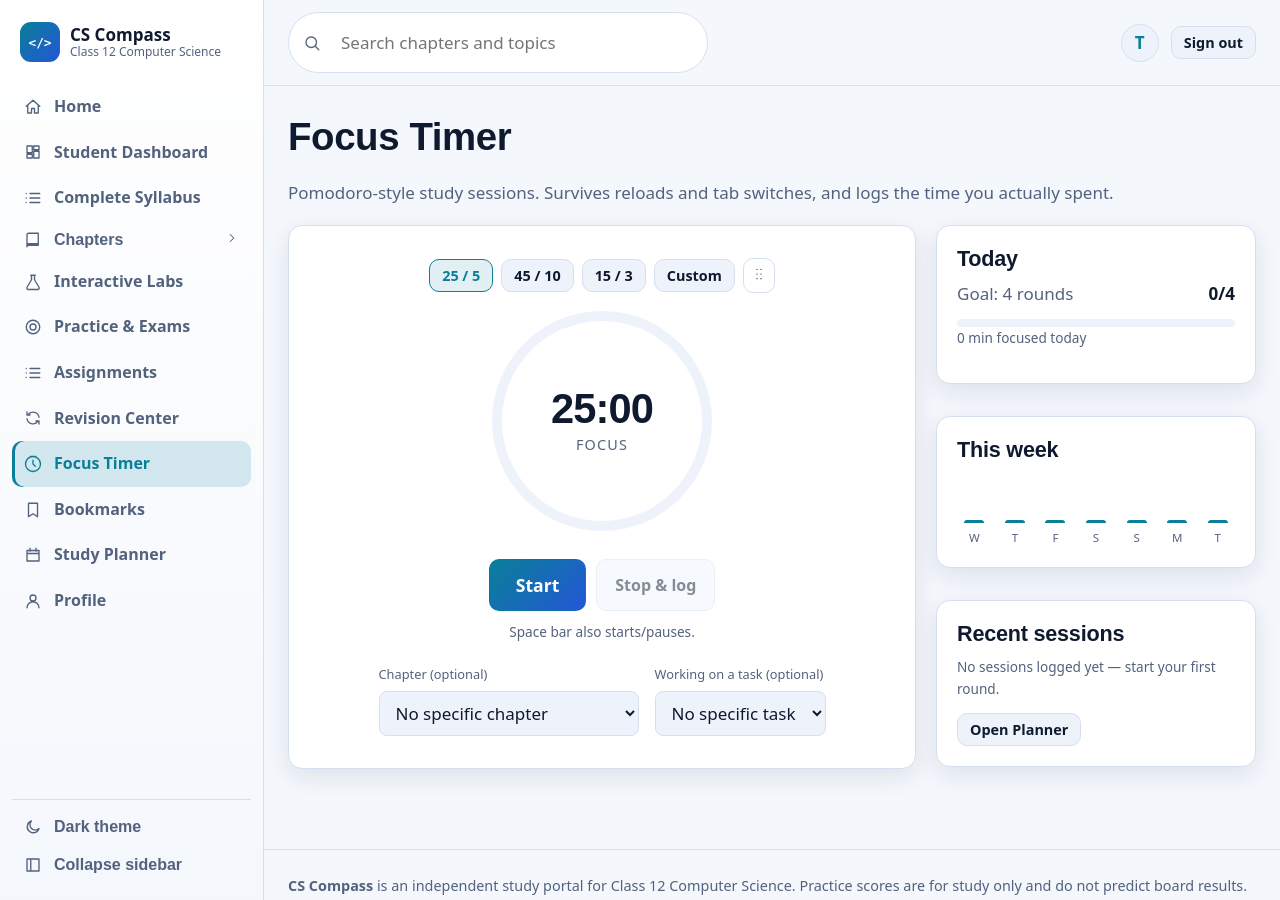
Scenario: focus timer › presets and settings are locked once a round is under way
This screenshot has width=1280, height=900.
Expected: the heading "Focus Timer" is shown, [288,115,511,158]
Expected: the text "0/4" is shown, [1208,280,1235,307]
Click the button "Start": (538, 585) [489,559,586,611]
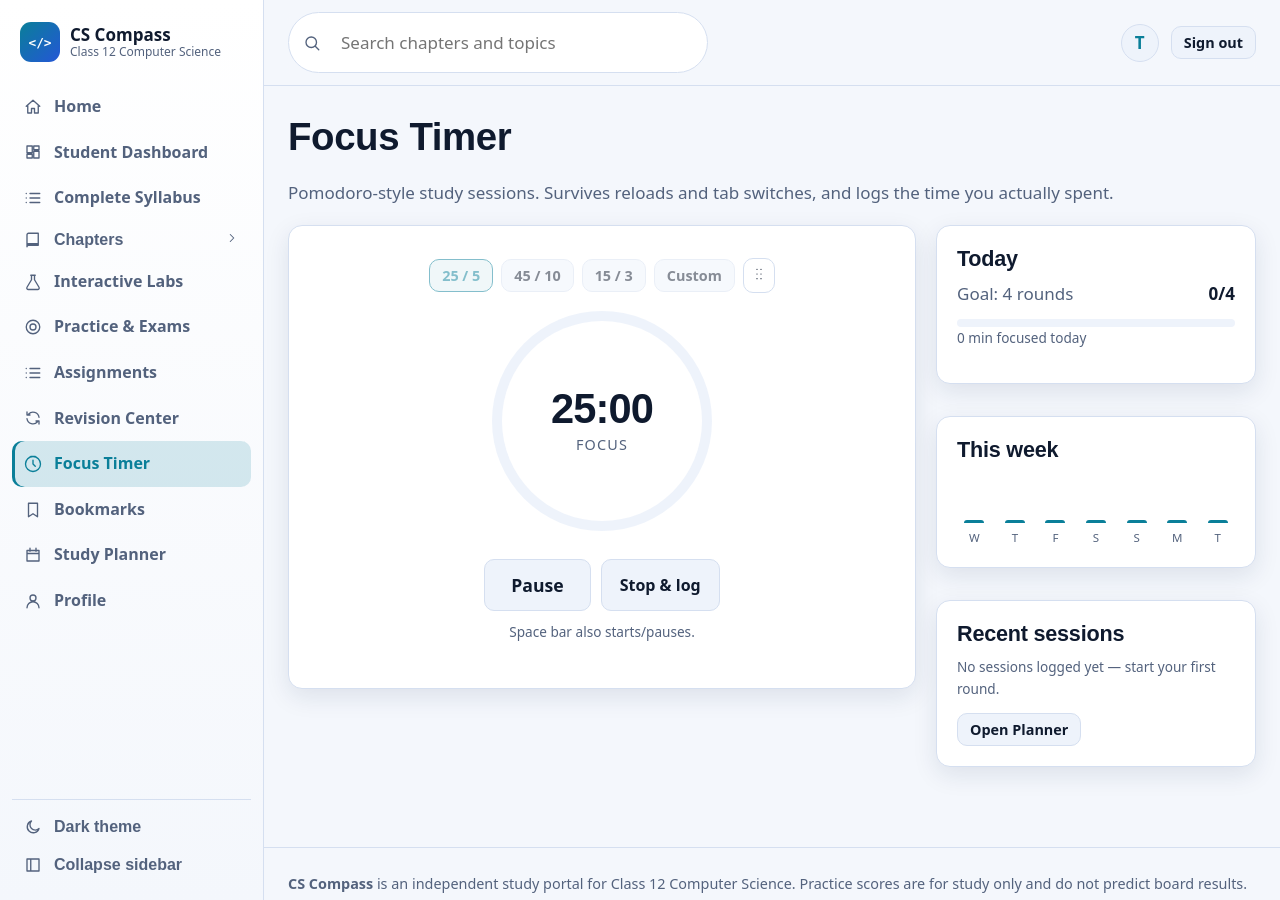
Expected: the button named "Timer settings" is disabled, [743,258,775,293]
Result: the button "Pause" is shown at [484,559,591,611]
Result: the button "45 / 10" is disabled at [501,259,574,292]
